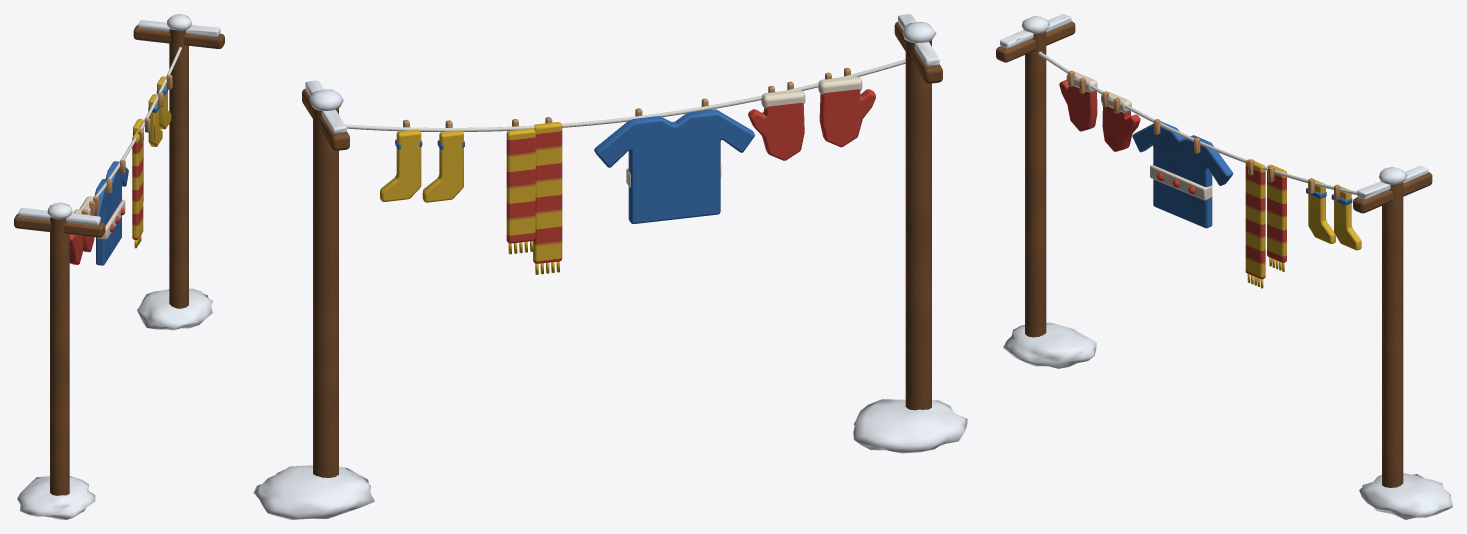
The model's file is clothesline.glb.
The picture shows the model from 3 angles, left to right: view 1: azimuth 30°, elevation 25°; view 2: azimuth 150°, elevation 25°; view 3: azimuth 270°, elevation 25°; orthographic projection. The views are drawn at different scales.
Parts seen in each view (by area): view 1: band, line; view 2: band, line; view 3: band, line.
Part boxes in pixels (<box>): band: <box>14,14,224,519</box>; line: <box>84,47,181,209</box>; band: <box>253,14,967,519</box>; line: <box>345,59,905,131</box>; band: <box>996,14,1452,519</box>; line: <box>1038,51,1356,194</box>.
Bounding box in the file's own units: 2.24 × 1.86 × 2.26.
2 materials, 1 textured.
